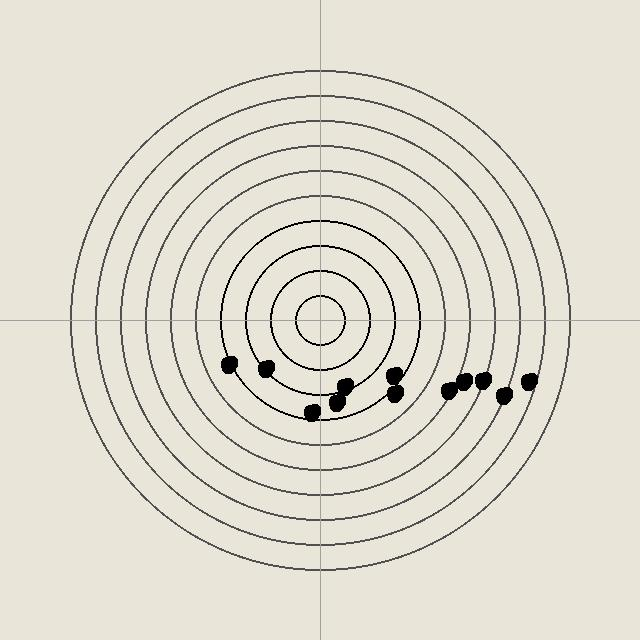horizontal_scatter: (518, 371, 538, 391), (383, 365, 403, 385), (384, 383, 404, 403), (438, 380, 458, 400), (326, 392, 346, 412), (453, 371, 473, 391), (218, 354, 238, 374), (493, 385, 513, 405), (255, 358, 275, 378), (334, 376, 354, 396), (301, 402, 321, 422), (472, 370, 492, 390)
